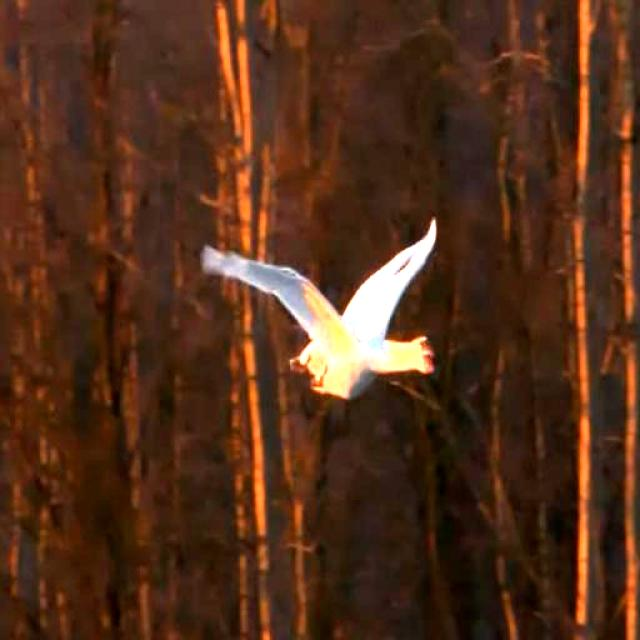airplane: (218, 241, 452, 409)
